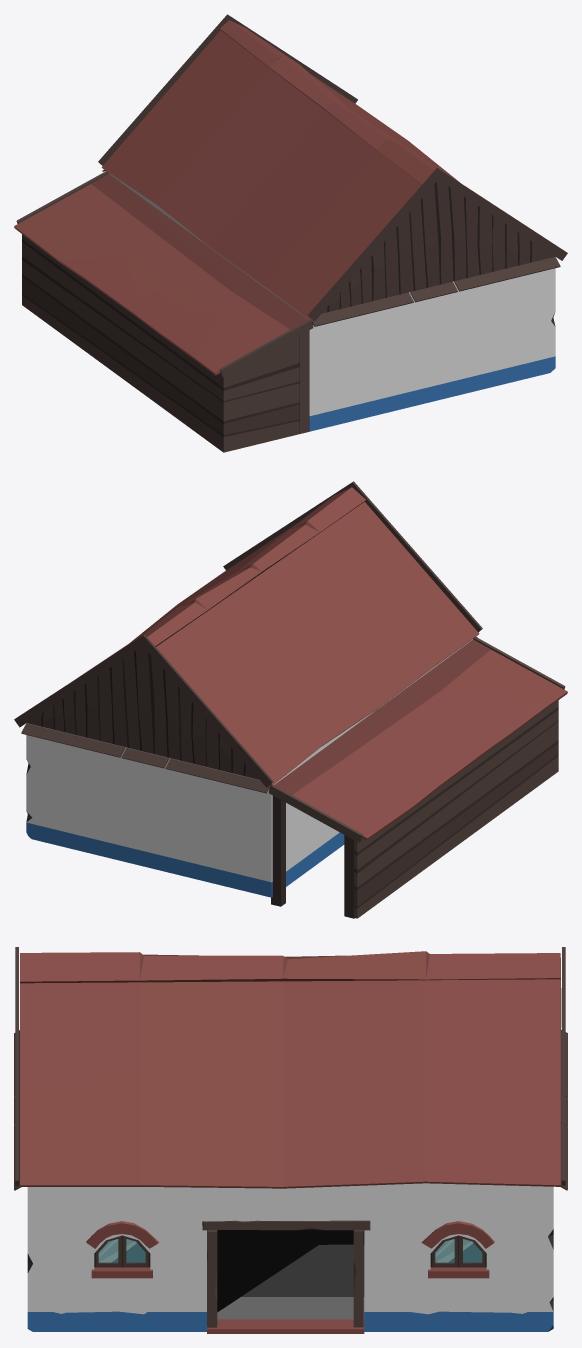
Rendered from SM_Stable.fbx.
3 views of the same model, one above another, from view 1: azimuth 30°, elevation 25°; view 2: azimuth 150°, elevation 25°; view 3: azimuth 270°, elevation 25° (orthographic). The views are drawn at different scales.
Parts seen in each view (by area): view 1: SM_Stable; view 2: SM_Stable; view 3: SM_Stable.
Boxes of the visible parts, <box> form: SM_Stable: <box>14,14,567,452</box>; SM_Stable: <box>14,481,567,918</box>; SM_Stable: <box>14,947,567,1333</box>.
Size of the model in its own units: 975 by 650 by 1027.
Materials: 1 (1 with a texture image).
